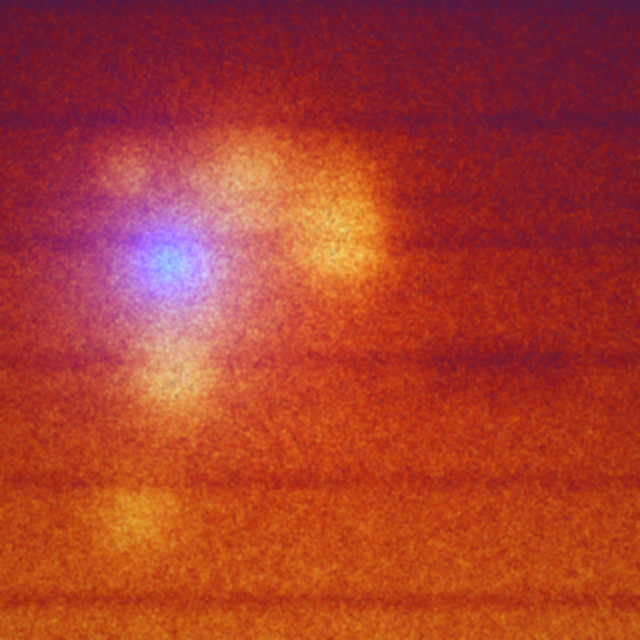nozzle: (124, 219, 215, 311)
